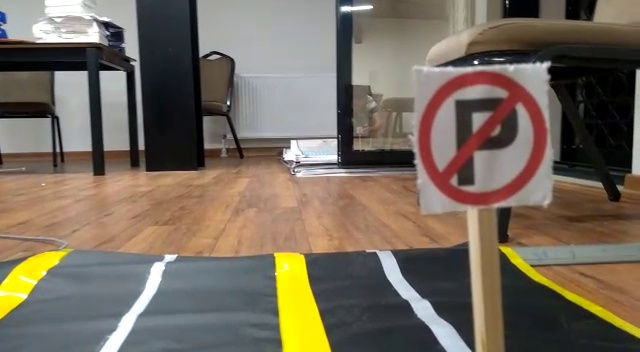park_yapilmaz: (413, 65, 553, 204)
